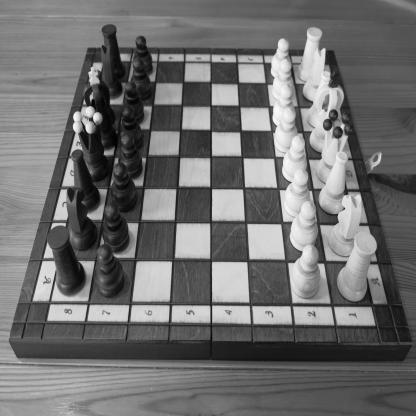black-bishop: (70, 149, 101, 214), (92, 69, 115, 127)
black-king: (82, 67, 118, 151)
black-knight: (66, 186, 98, 252), (100, 42, 123, 100)
black-pawn: (94, 244, 125, 298), (102, 202, 130, 255), (110, 162, 137, 212), (118, 132, 143, 180), (118, 105, 143, 150), (122, 81, 145, 125), (130, 57, 152, 102), (133, 36, 153, 79)
black-queen: (72, 106, 110, 182)
black-rook: (47, 224, 86, 297), (104, 22, 128, 79)
white-bishop: (318, 150, 348, 216), (301, 66, 327, 126), (306, 70, 331, 129)
white-king: (309, 69, 345, 154)
white-knight: (325, 194, 363, 261), (302, 47, 326, 102)
white-pawn: (290, 244, 322, 299), (289, 200, 319, 253), (284, 168, 310, 218), (281, 135, 307, 183), (273, 106, 298, 154), (272, 83, 295, 127), (271, 58, 294, 100), (270, 38, 292, 78)
white-queen: (316, 109, 354, 185)
white-rook: (336, 230, 378, 302), (298, 26, 324, 83)
